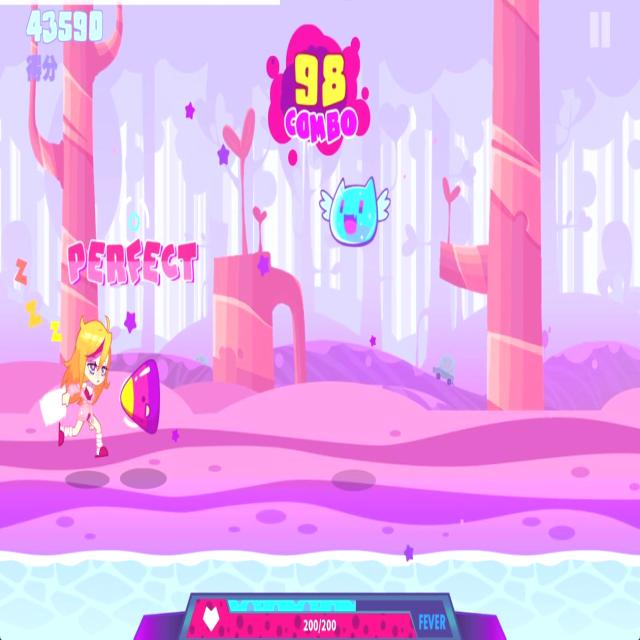jian: (118, 353, 164, 438)
mao: (318, 168, 392, 252)
